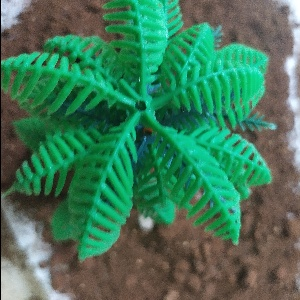plant: (21, 4, 280, 246)
